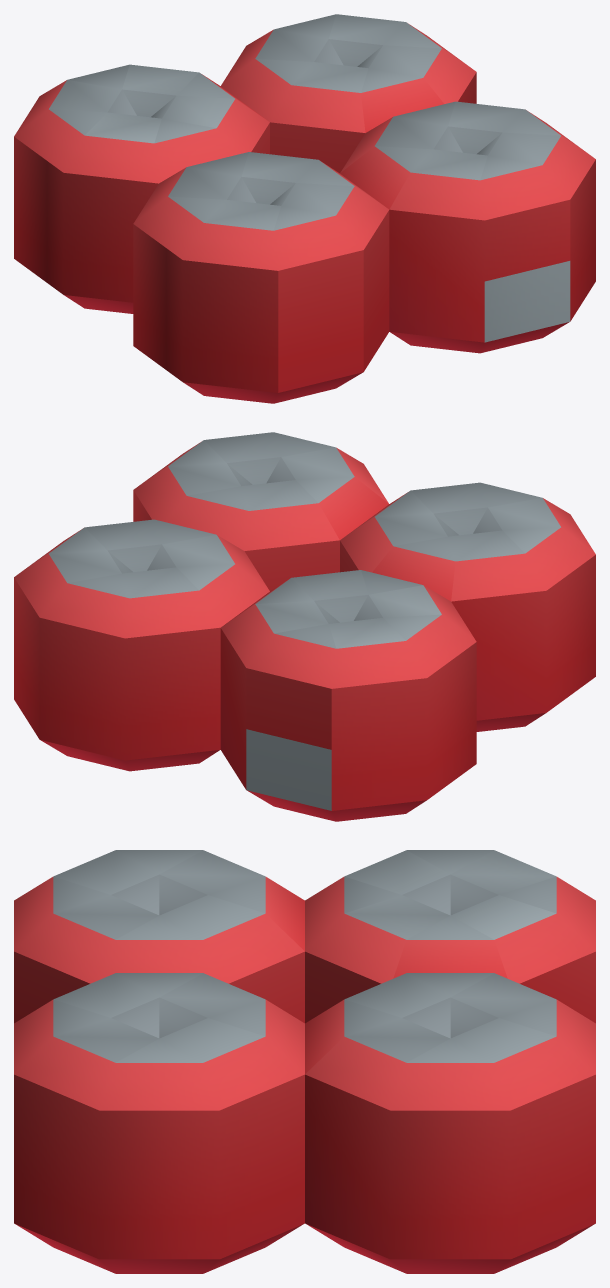
File: kaykit_containers_d_v01.glb
3 renders of one model, top to bottom at view 1: azimuth 30°, elevation 25°; view 2: azimuth 150°, elevation 25°; view 3: azimuth 270°, elevation 25°, orthographic. The views are drawn at different scales.
Visible parts, largest first — view 1: containers_D; view 2: containers_D; view 3: containers_D.
Boxes of the visible parts, box(x1,y1,x2,y2) form: containers_D: box(14, 14, 595, 403); containers_D: box(14, 432, 595, 821); containers_D: box(14, 850, 595, 1273).
Bounding box in the file's own units: 0.5 × 0.2 × 0.5.
1 material, 1 textured.
